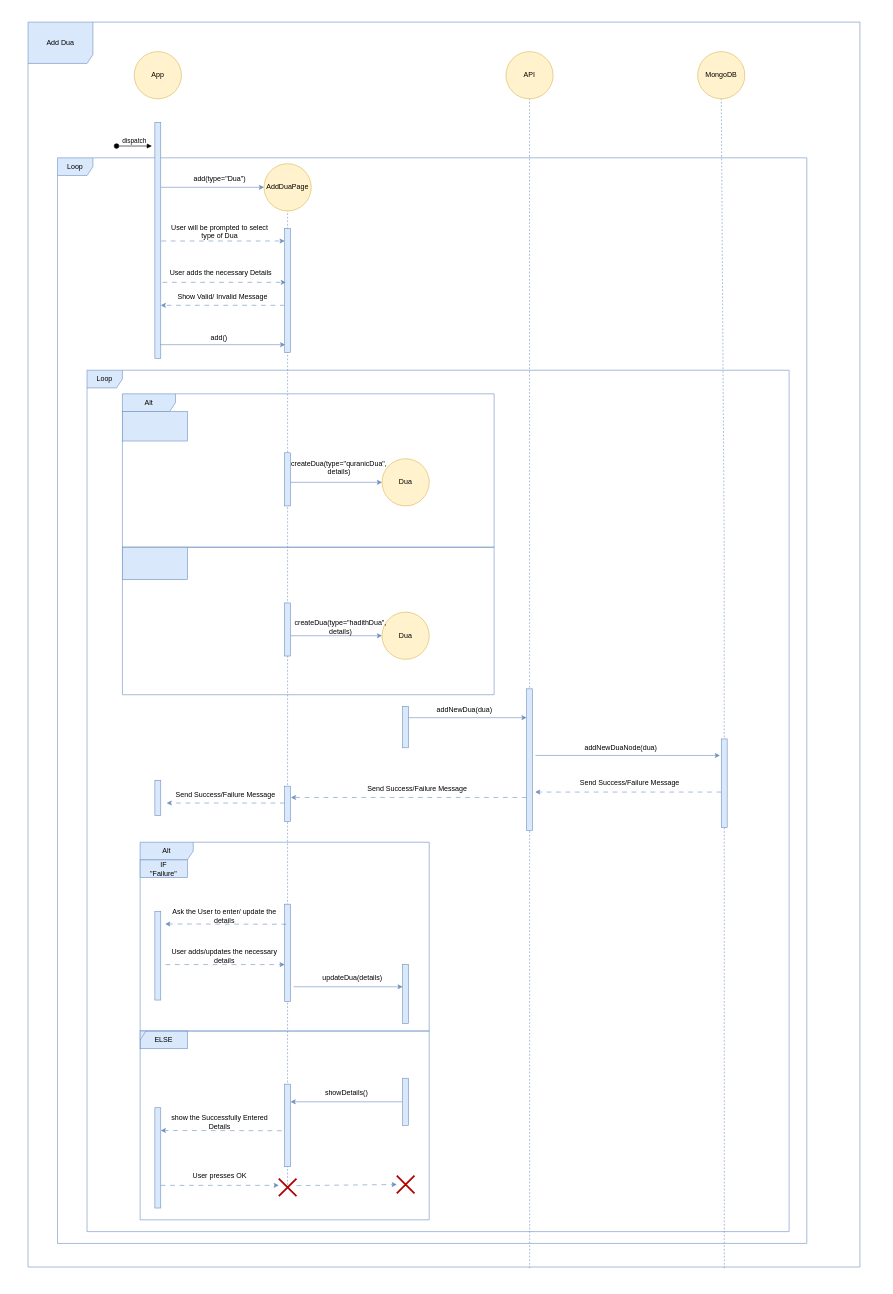
Some shapes in this 893 by 1294 pixel diagram are drawn without their labels. The shapes that lost their labels are listed below. From the top down, each one's centre as x and y in pixels, then its label:
point 154,426: IF "type=QuranicDua"
point 154,563: ELSE "type=HadithDua"
